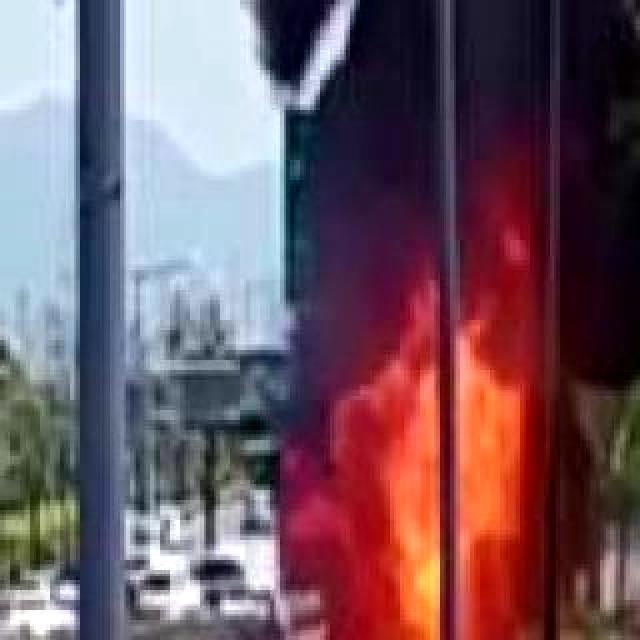fire: (334, 380, 550, 640)
smoke: (232, 0, 640, 430)
